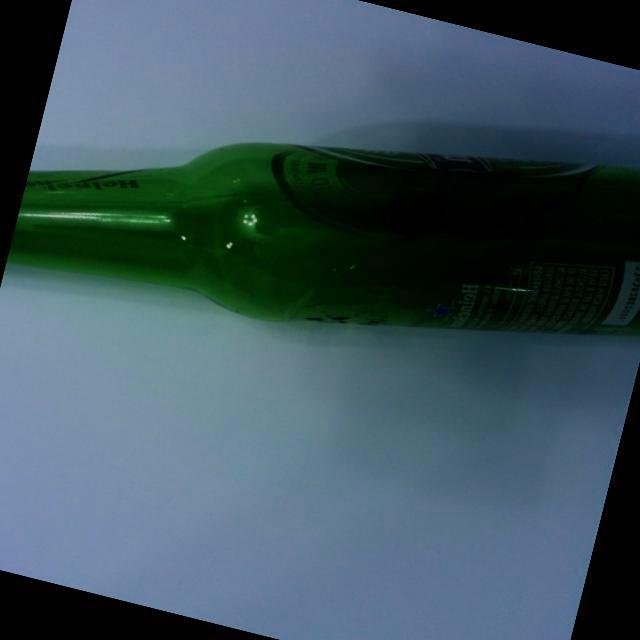glass: (2, 10, 640, 426)
